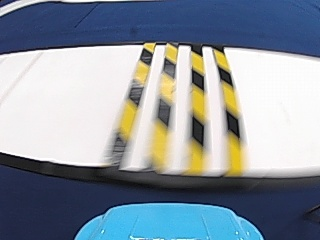bump: (108, 48, 253, 165)
